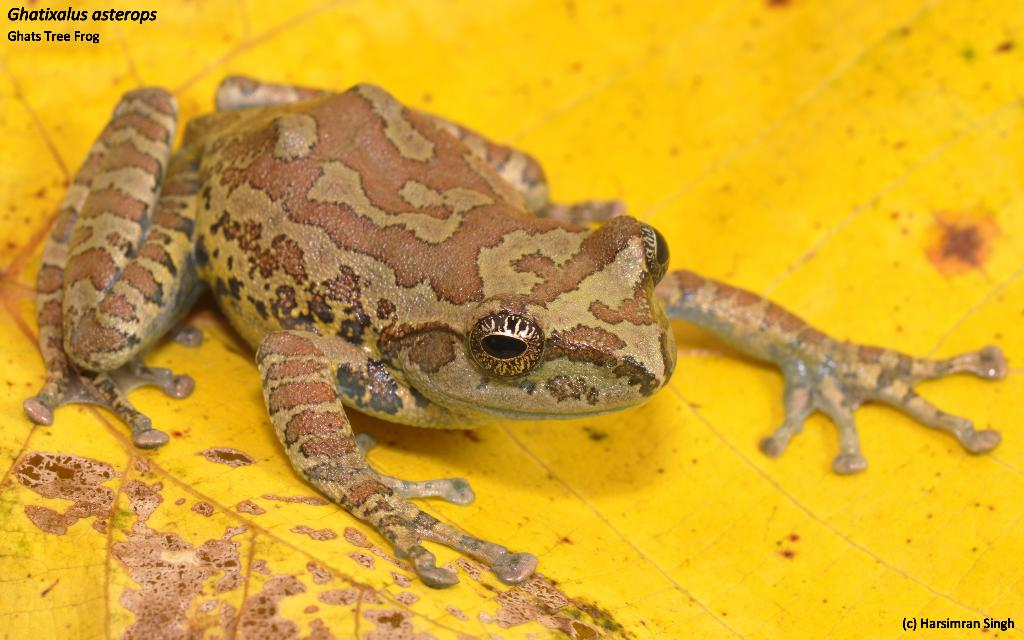Frog: (23, 75, 1008, 587)
